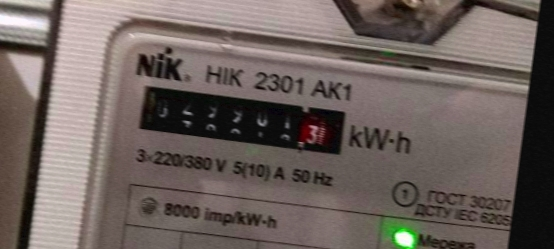0: (254, 101, 271, 128), (153, 95, 172, 118)
1: (278, 106, 294, 130)
2: (178, 95, 197, 116)
3: (304, 120, 320, 144)
9: (229, 100, 246, 124), (204, 97, 219, 120)
screen: (124, 72, 358, 165)
